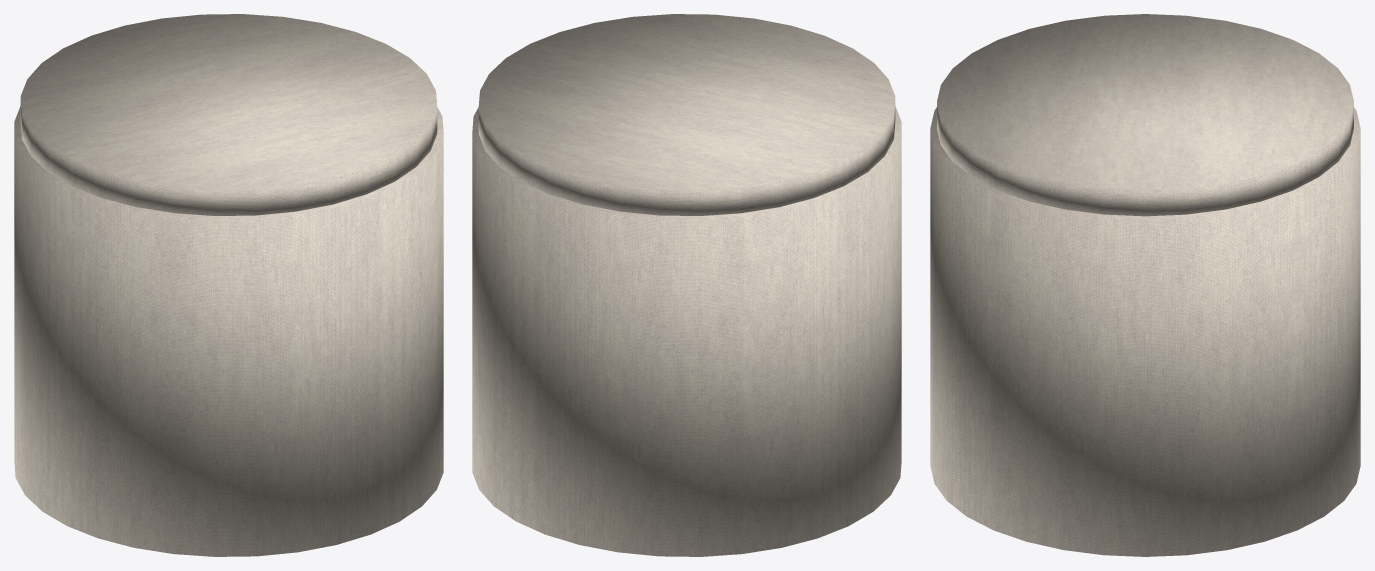
Rendered from lounge.stool-low.glb.
3 renders of one model, left to right at view 1: azimuth 30°, elevation 25°; view 2: azimuth 150°, elevation 25°; view 3: azimuth 270°, elevation 25°, orthographic.
Parts seen in each view (by area): view 1: lounge.stool-low.001; view 2: lounge.stool-low.001; view 3: lounge.stool-low.001.
Part boxes in pixels (left/top/right/bottom): lounge.stool-low.001: left=14, top=14, right=443, bottom=556; lounge.stool-low.001: left=472, top=14, right=901, bottom=556; lounge.stool-low.001: left=930, top=14, right=1360, bottom=556.
Bounding box in the file's own units: 0.45 × 0.42 × 0.45.
Materials: 1 (1 with a texture image).
